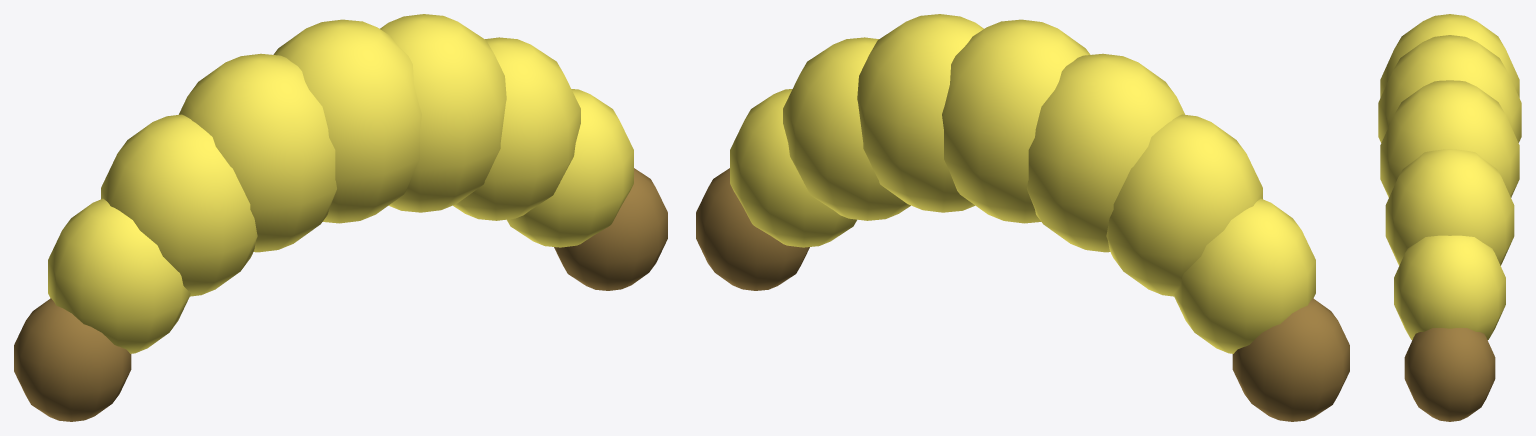
Rendered from platano.glb.
3 renders of one model, left to right at view 1: azimuth 30°, elevation 25°; view 2: azimuth 150°, elevation 25°; view 3: azimuth 270°, elevation 25°, orthographic. The views are drawn at different scales.
Parts seen in each view (by area): view 1: Platano; view 2: Platano; view 3: Platano.
Boxes of the visible parts, bbox=[...] form: Platano: bbox=[14, 14, 667, 421]; Platano: bbox=[696, 14, 1349, 421]; Platano: bbox=[1378, 14, 1521, 421].
Size of the model in its own units: 27.51 by 13.35 by 6.46.
